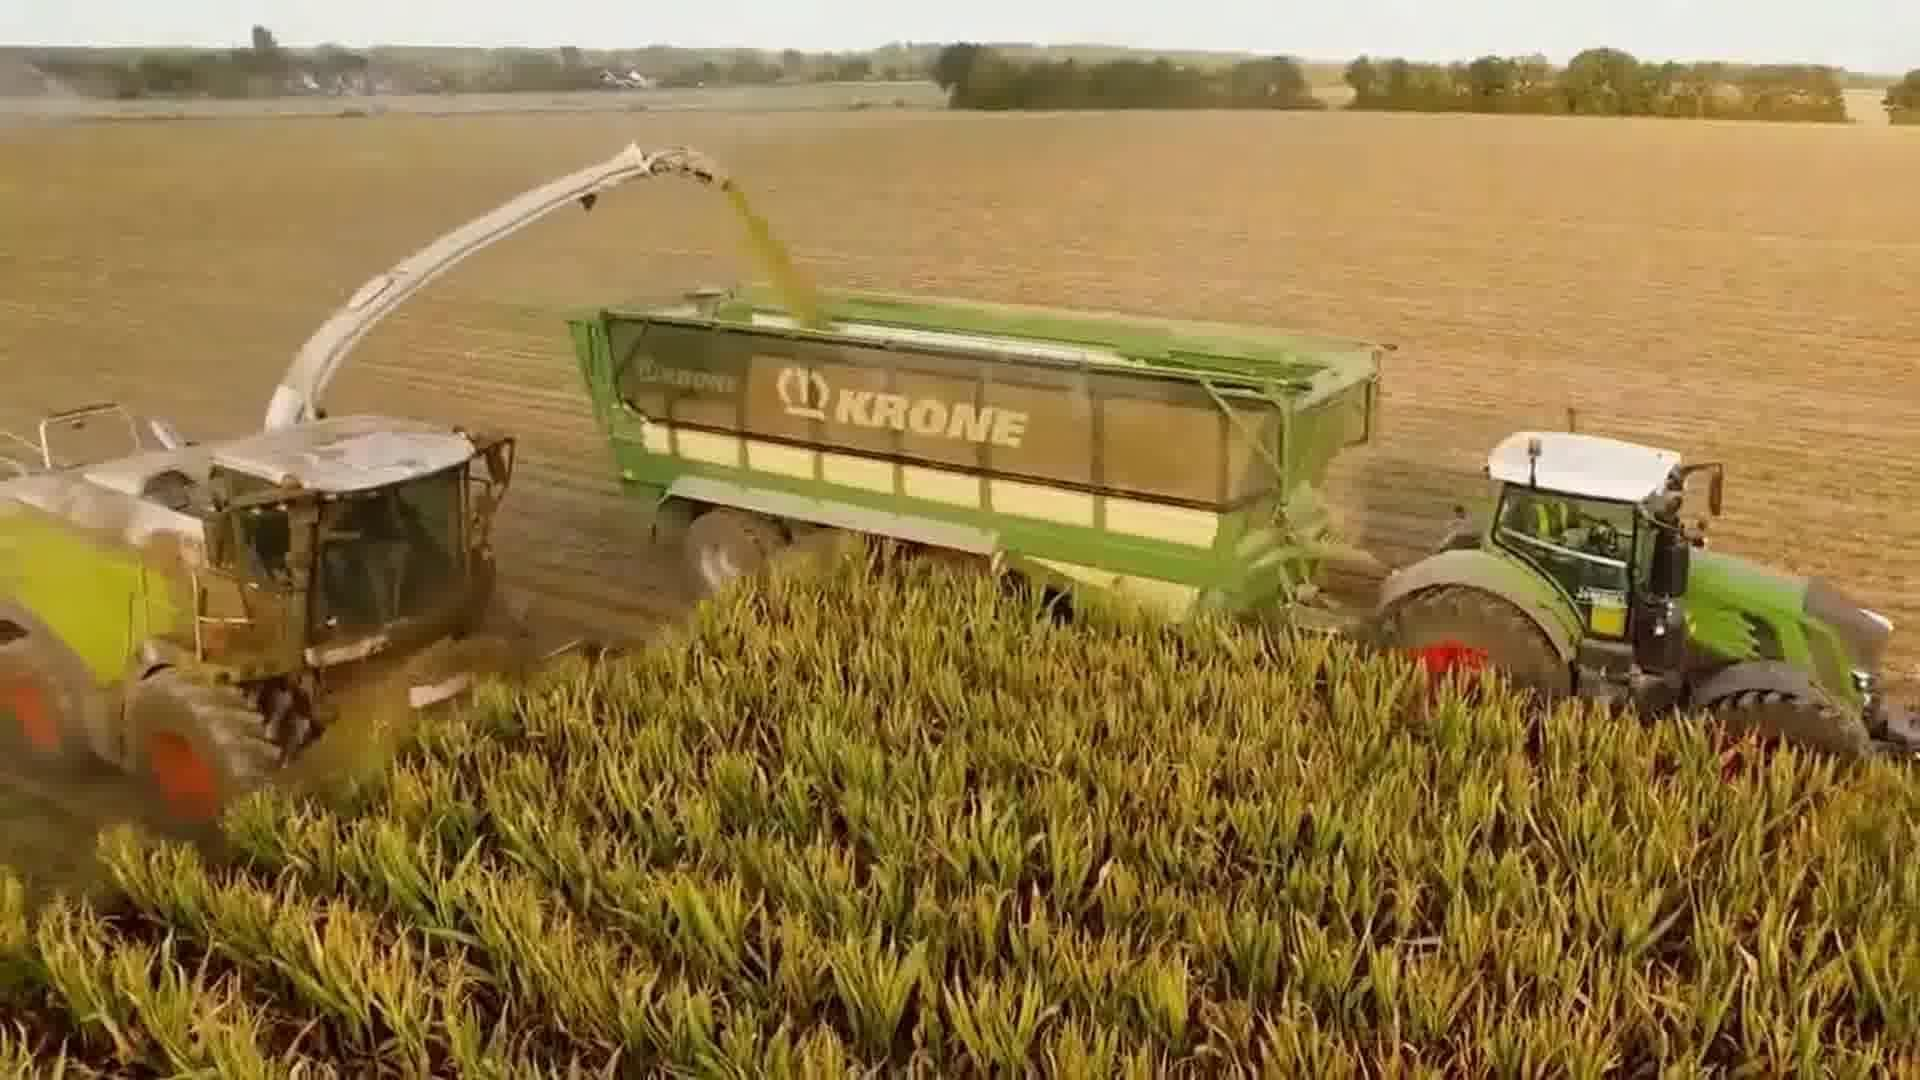combine harvester: (0, 125, 738, 833)
tractor: (1364, 415, 1920, 799)
trailer: (553, 274, 1393, 657)
